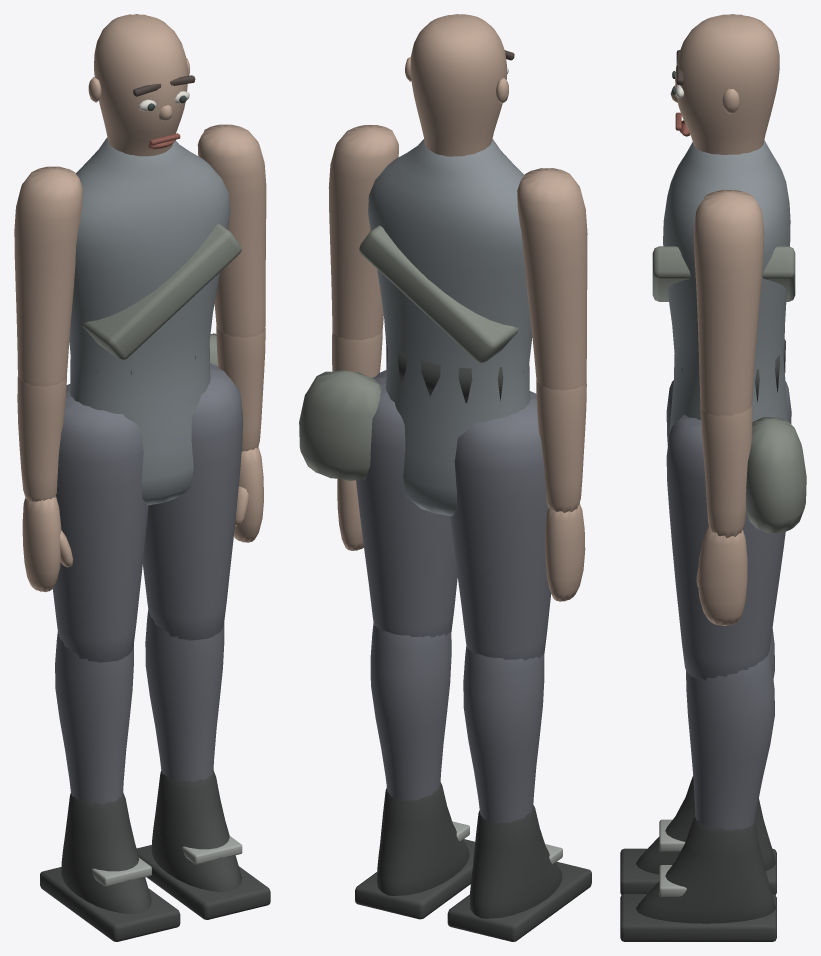
The model's file is resident_still_d_v6.glb.
The picture shows the model from 3 angles, left to right: view 1: azimuth 30°, elevation 25°; view 2: azimuth 150°, elevation 25°; view 3: azimuth 270°, elevation 25°; orthographic projection. The views are drawn at different scales.
Visible parts, largest first — view 1: HabResidentStill; view 2: HabResidentStill; view 3: HabResidentStill.
Part boxes in pixels (x1,y1,x2,y2): HabResidentStill: (14,14,270,941); HabResidentStill: (299,14,591,941); HabResidentStill: (620,14,806,941).
Bounding box in the file's own units: 0.5488 × 1.8 × 0.3446.
